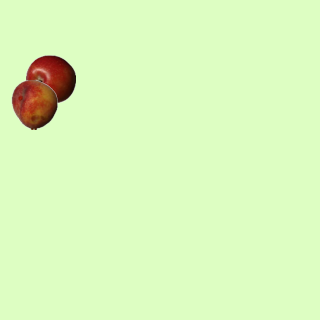Apple Braeburn: (25, 54, 75, 104)
Peach: (9, 79, 59, 129)
